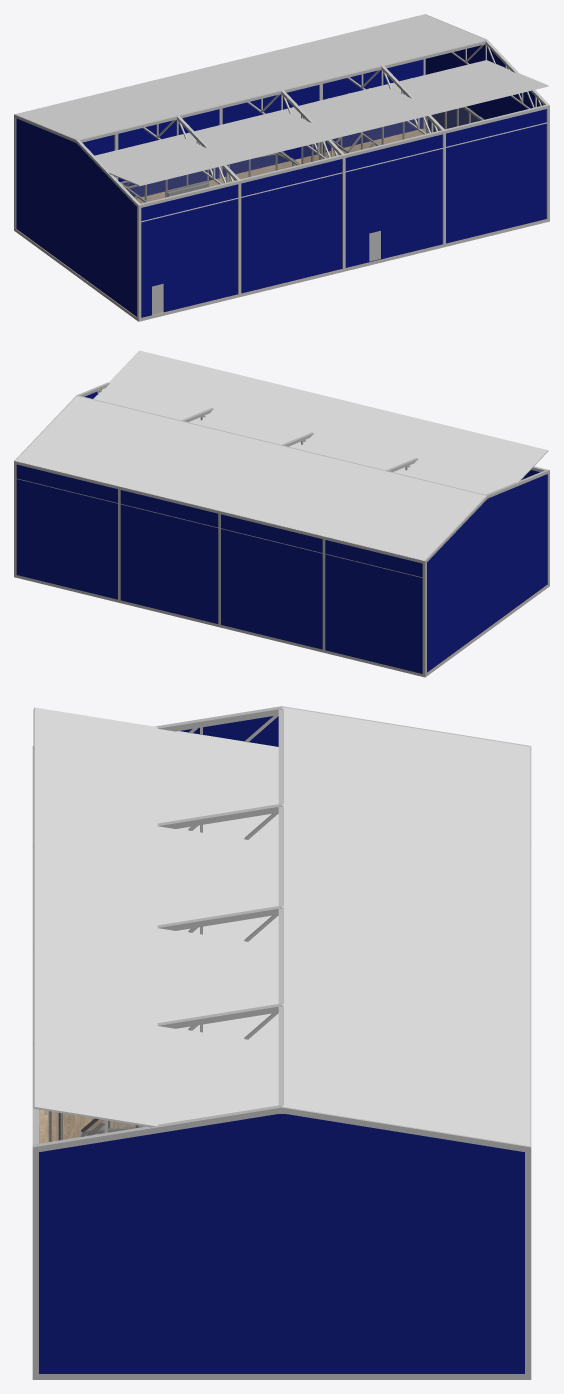
The model's file is hall (1).FBX.
3 renders of one model, top to bottom at view 1: azimuth 30°, elevation 25°; view 2: azimuth 150°, elevation 25°; view 3: azimuth 270°, elevation 25°, orthographic. The views are drawn at different scales.
Visible parts, largest first — view 1: wall1, roof2, roof003, Carcass, wall4, wall3, wall2, Box409, Box278, Box269, Box396, Box397 (+1 smaller); view 2: wall3, roof2, roof003, wall4, Carcass; view 3: wall2, roof2, roof003, Carcass, wall4.
Boxes of the visible parts, box(x1,y1,x2,y2) form: wall1: box(141, 109, 546, 317); roof2: box(16, 14, 485, 139); roof003: box(95, 60, 548, 186); Carcass: box(14, 14, 549, 321); wall4: box(16, 118, 136, 316); wall3: box(82, 59, 422, 197); wall2: box(425, 44, 543, 131); Box409: box(123, 153, 295, 201); Box278: box(363, 108, 480, 144); Box269: box(322, 123, 401, 157); Box396: box(128, 175, 186, 202); Box397: box(189, 160, 248, 185); wall3: box(16, 464, 422, 673); roof2: box(15, 396, 485, 560); roof003: box(93, 350, 548, 494); wall4: box(427, 474, 547, 672); Carcass: box(14, 382, 549, 677); wall2: box(39, 1114, 524, 1373); roof2: box(283, 707, 530, 1146); roof003: box(33, 707, 278, 1127); Carcass: box(32, 706, 531, 1379); wall4: box(180, 716, 278, 746).
Bounding box in the file's own units: 1181 × 374 × 620.
